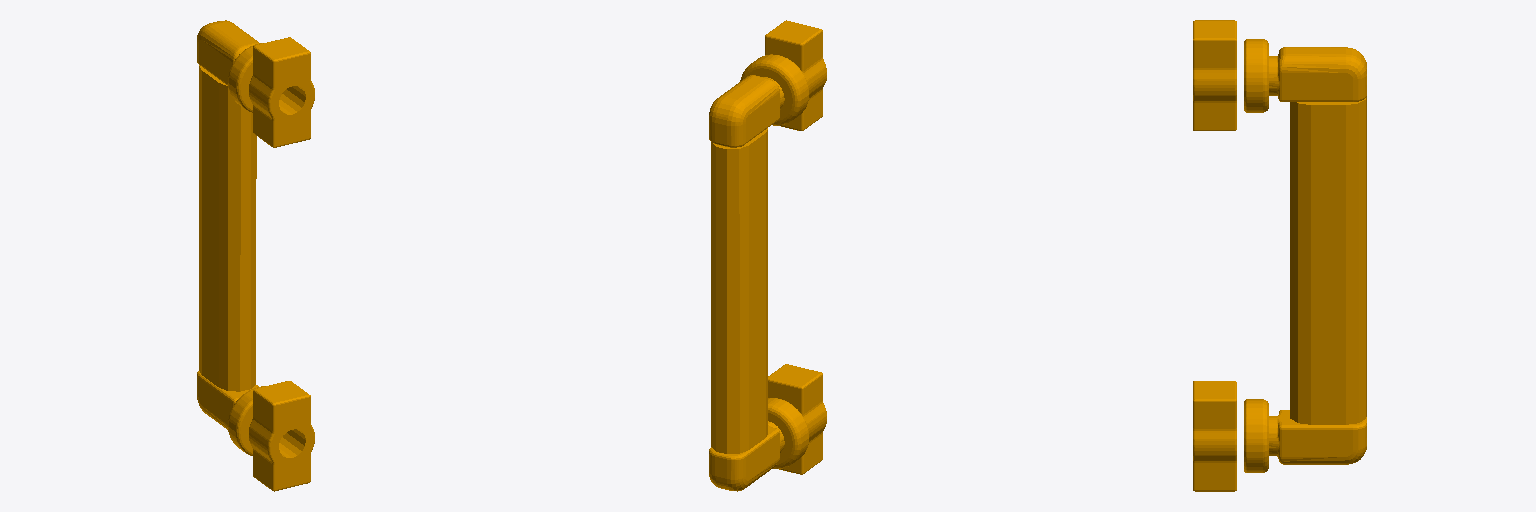
The robot description file, URDF, robot "cargo":
<?xml version="1.0" ?>
<!-- =================================================================================== -->
<!-- |    This document was autogenerated by xacro from cargo_bag.urdf.xacro           | -->
<!-- |    EDITING THIS FILE BY HAND IS NOT RECOMMENDED                                 | -->
<!-- =================================================================================== -->
<robot name="cargo">
  <link name="body">
    <!--     <collision>
      <origin xyz="0 0 0" rpy="0 0 0" />
      <geometry>
        <mesh filename="package://isaac_description/meshes/half_ctb_02_4.dae" scale="1 1 1"/>
      </geometry>
    </collision> -->
    <visual>
      <origin rpy="0 0 0" xyz="0 0 0"/>
      <geometry>
        <mesh filename="package://cargo_bag/meshes/half_ctb_02_4.dae" scale="1 1 1"/>
      </geometry>
    </visual>
    <collision>
      <origin rpy="0 0 1.57" xyz="0.1 0.21 0"/>
      <geometry>
        <mesh filename="package://astrobee_handrail_8_5/meshes/handrail_8_5.dae"/>
      </geometry>
    </collision>
    <visual>
      <origin rpy="0 0 1.57" xyz="0.1 0.21 0"/>
      <geometry>
        <mesh filename="package://astrobee_handrail_8_5/meshes/handrail_8_5.dae"/>
      </geometry>
    </visual>
    <inertial>
      <mass value="0.5"/>
      <origin rpy="0 0 0" xyz="0 0 0"/>
      <inertia ixx="1" ixy="0" ixz="0" iyy="1" iyz="0" izz="1"/>
    </inertial>
  </link>
  <!-- tf publisher -->
  <gazebo>
    <plugin filename="libgazebo_model_plugin_truth.so" name="truth_ros">
      <rate>62.5</rate>
      <parent>world</parent>
      <child>body</child>
      <tf>true</tf>
      <pose>false</pose>
      <twist>false</twist>
      <static>false</static>
    </plugin>
  </gazebo>
</robot>

--- Render facts (derived) ---
Views: 3 orthographic renders of the robot side by side, from view 1: azimuth 30°, elevation 25°; view 2: azimuth 150°, elevation 25°; view 3: azimuth 270°, elevation 25°.
Robot: cargo — 1 links, 0 joints (none); root link body; default pose: every joint at zero.
Links seen in each view (by area): view 1: body; view 2: body; view 3: body.
Link boxes in pixels (<box>): body: <box>197,20,314,491</box>; body: <box>709,20,826,491</box>; body: <box>1193,20,1366,491</box>.
Size in the robot's own frame: 0.0331 by 0.0782 by 0.2235 metres.
1 mesh visuals loaded from 2 distinct referenced files (1 Collada DAE); not drawn: 1 (reference not matched to a file when rendering).
